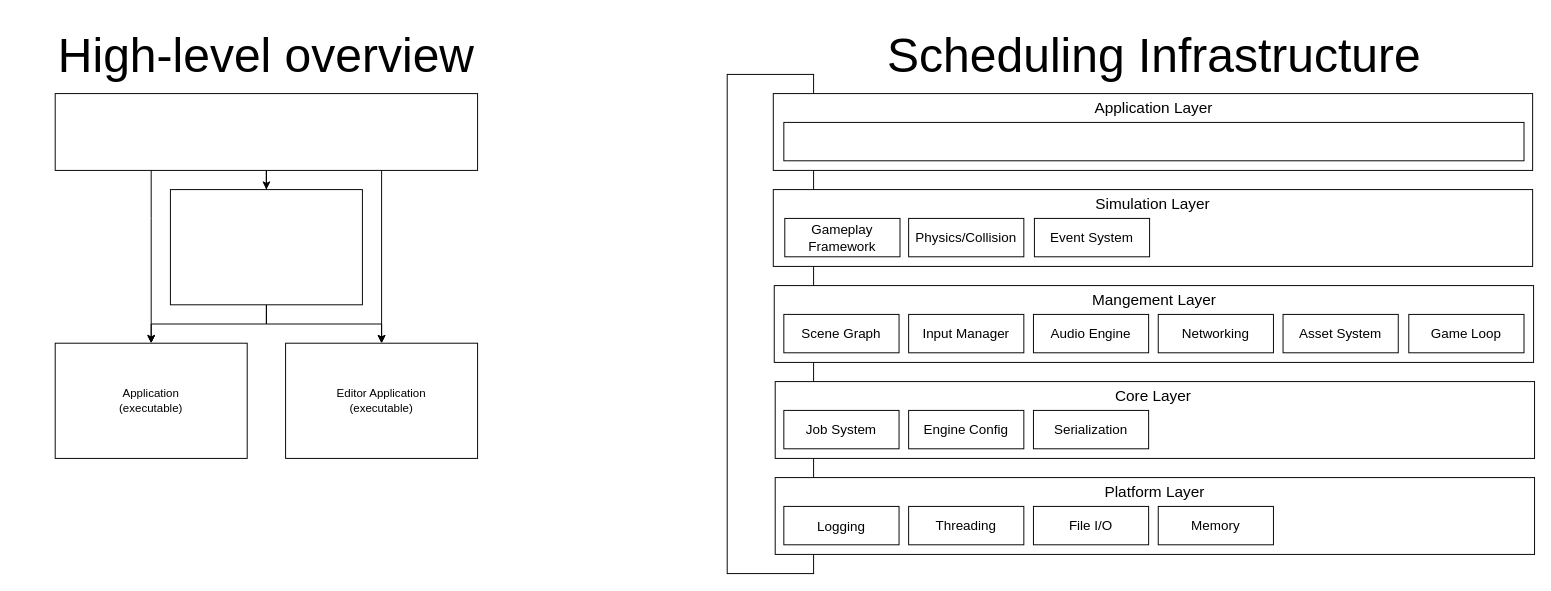
Image size: 1551x591. Some labels were removed from this diagram. Each missing label, with the box of its shape:
Application / Game Logic: (783, 121, 1524, 161)
Hot-reloadable application code (dynamic library): (169, 189, 362, 305)
Kronos Engine (static library): (54, 93, 478, 170)
Layer Stack: (726, 73, 814, 574)
